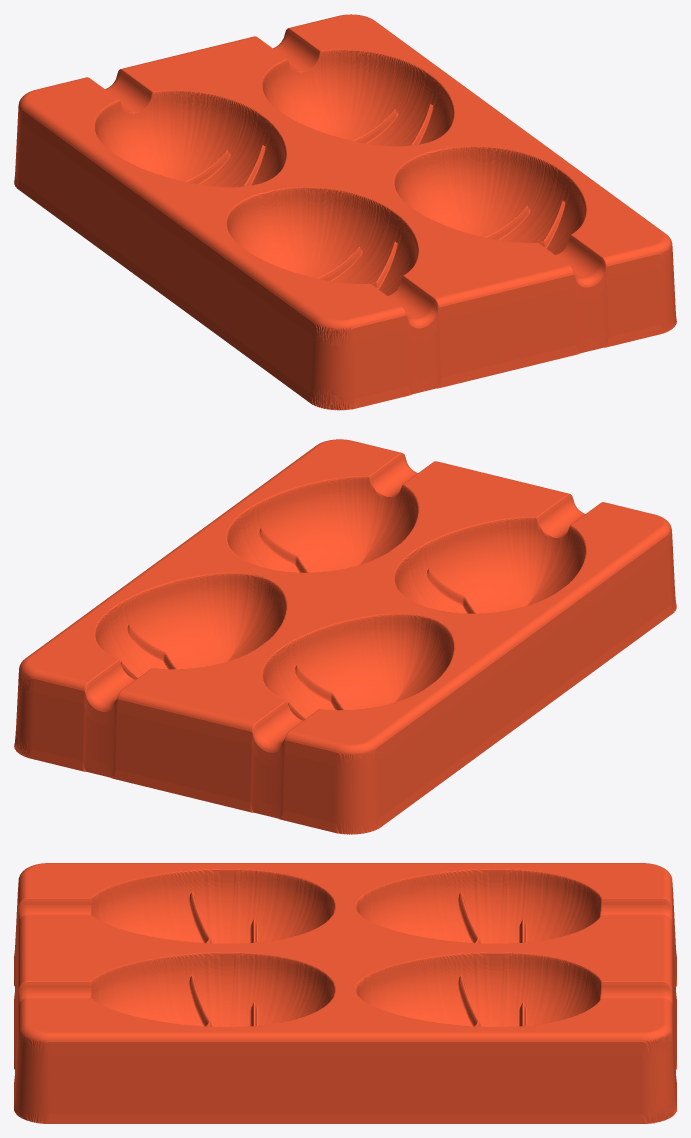
File: mold.glb
3 views of the same model, one above another, from view 1: azimuth 30°, elevation 25°; view 2: azimuth 150°, elevation 25°; view 3: azimuth 270°, elevation 25° (orthographic).
Parts seen in each view (by area): view 1: geometry_0; view 2: geometry_0; view 3: geometry_0.
Part boxes in pixels (bbox=[...]): geometry_0: bbox=[14, 14, 676, 410]; geometry_0: bbox=[14, 439, 676, 834]; geometry_0: bbox=[14, 863, 676, 1123].
Bounding box in the file's own units: 0.1098 × 0.0245 × 0.171.
